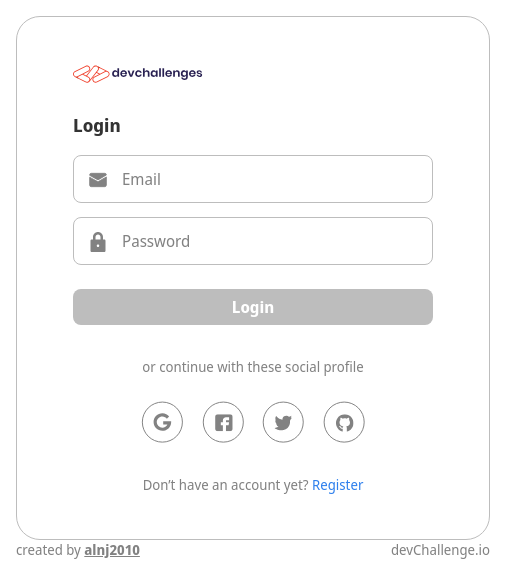
Test: Login page › When login textfields are filled the login button should be active
Type "xanthe.neal@gmail.com" into the field with test id "textfield-user-email". click: (253, 179)
box: left=74, top=156, right=432, bottom=202
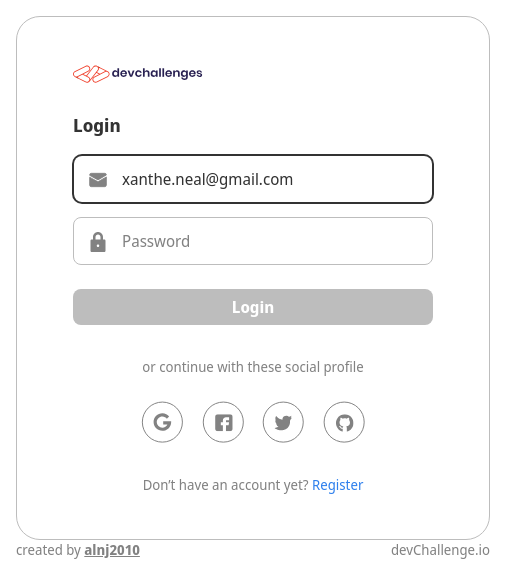
Type "******" into the password field with test id "textfield-user-password". click: (253, 241)
box: left=74, top=218, right=432, bottom=264
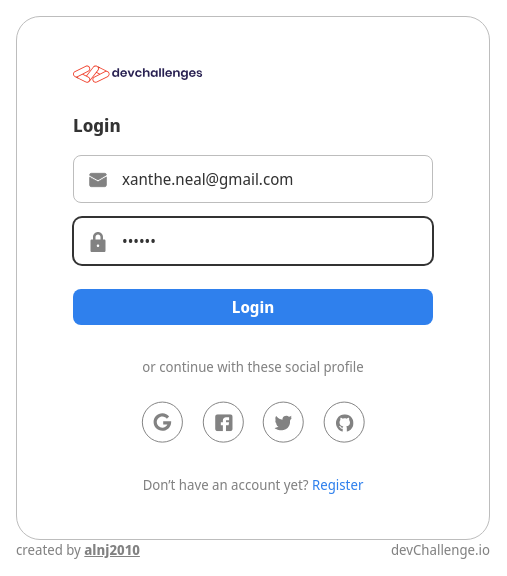
Check: the button with test id "login-button" is enabled, box left=73, top=289, right=433, bottom=325
